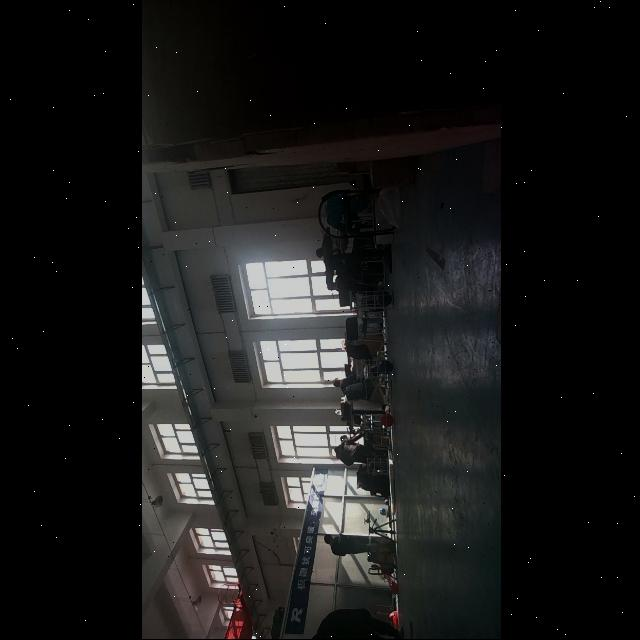B: (376, 360, 392, 376), (376, 292, 390, 306)
R: (378, 414, 392, 430)
S: (353, 286, 397, 314), (353, 356, 395, 382), (358, 411, 394, 435), (362, 456, 396, 476)
